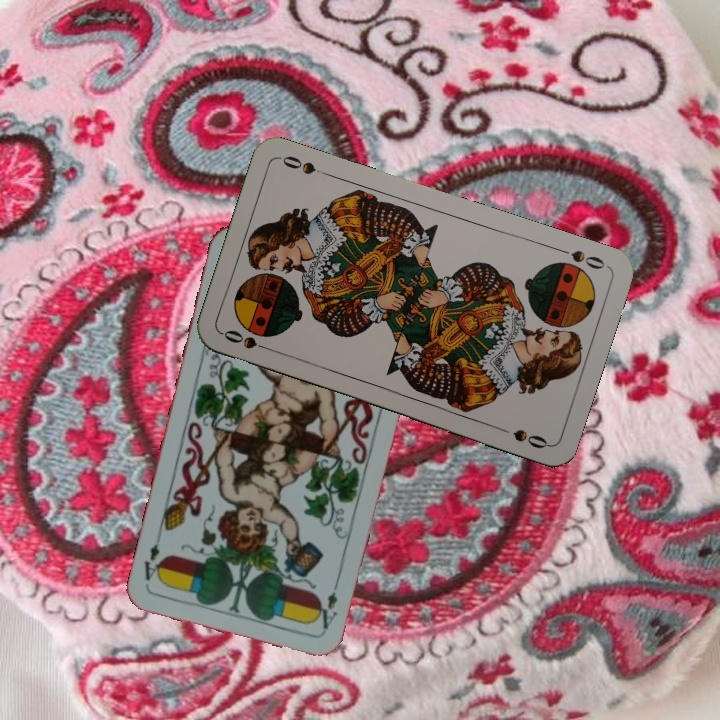EA: (318, 574, 342, 632)
SO: (219, 325, 277, 355), (553, 243, 610, 272)
